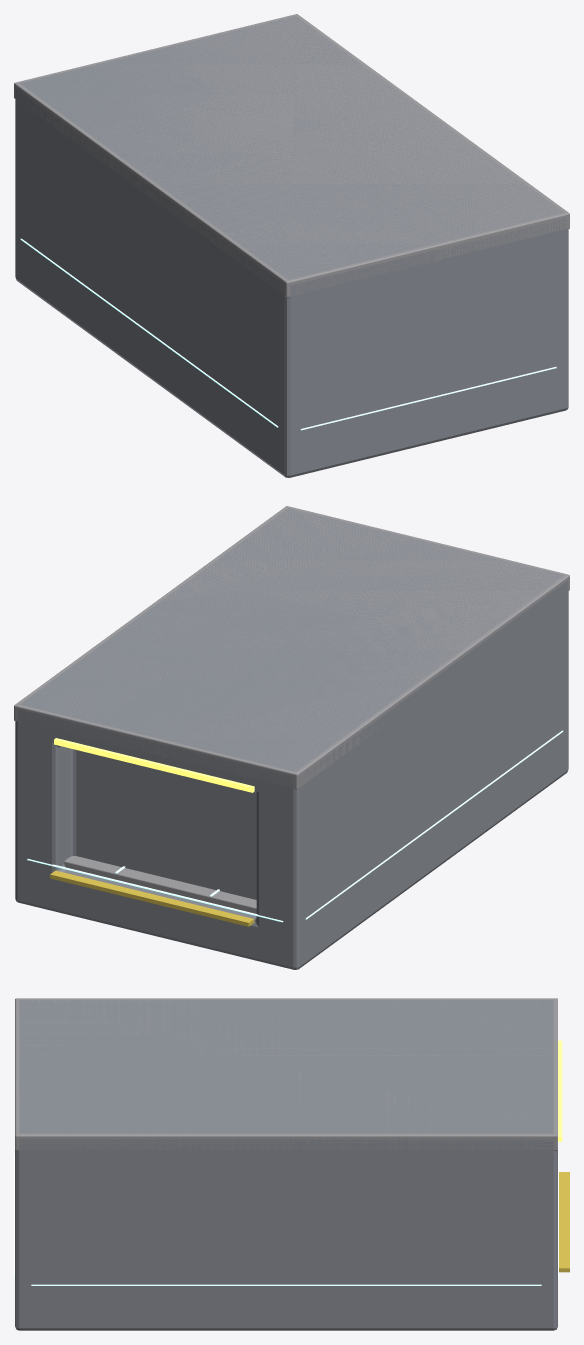
Rendered from ship_hangar_5x3.glb.
The picture shows the model from 3 angles, top to bottom: view 1: azimuth 30°, elevation 25°; view 2: azimuth 150°, elevation 25°; view 3: azimuth 270°, elevation 25°; orthographic projection.
Parts seen in each view (by area): view 1: ext_hull, int_ceiling, int_grid; view 2: ext_hull, int_ceiling, int_deck, ext_door_hazard, ext_door_glow, int_grid; view 3: ext_hull, int_ceiling, int_grid, ext_door_hazard, ext_door_glow.
Part boxes in pixels (bbox=[...]): ext_hull: bbox=[15, 16, 568, 477]; int_ceiling: bbox=[14, 14, 569, 297]; int_grid: bbox=[20, 238, 556, 430]; ext_hull: bbox=[15, 508, 568, 969]; int_ceiling: bbox=[14, 506, 569, 789]; int_deck: bbox=[64, 856, 256, 913]; ext_door_hazard: bbox=[50, 870, 254, 926]; ext_door_glow: bbox=[54, 738, 254, 792]; int_grid: bbox=[27, 730, 563, 922]; ext_hull: bbox=[15, 999, 557, 1330]; int_ceiling: bbox=[15, 998, 557, 1150]; int_grid: bbox=[14, 1154, 558, 1285]; ext_door_hazard: bbox=[559, 1172, 569, 1272]; ext_door_glow: bbox=[558, 1040, 562, 1141].
Size of the model in its own units: 3.02 by 2 by 5.12.
